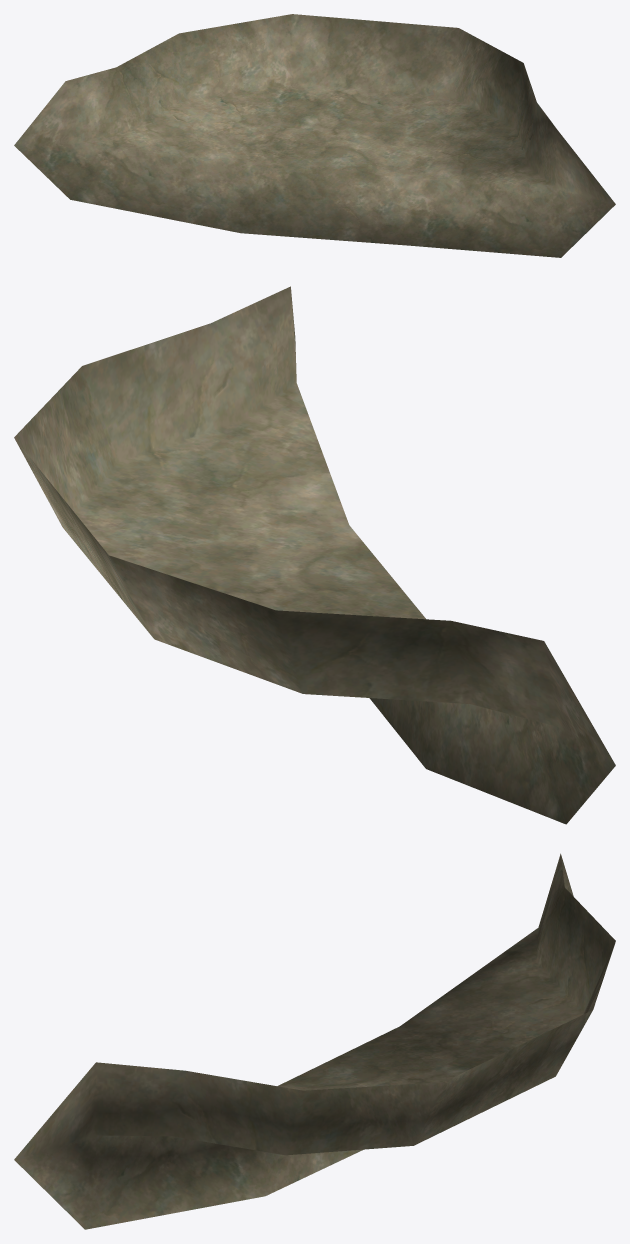
File: EKH_GROTTO_PS_GR_LINE38.fbx
The picture shows the model from 3 angles, top to bottom: view 1: azimuth 30°, elevation 25°; view 2: azimuth 150°, elevation 25°; view 3: azimuth 270°, elevation 25°; orthographic projection. The views are drawn at different scales.
Visible parts, largest first — view 1: EKH_GROTTO_PS_GR_LINE38; view 2: EKH_GROTTO_PS_GR_LINE38; view 3: EKH_GROTTO_PS_GR_LINE38.
Part boxes in pixels (x1,y1,x2,y2): EKH_GROTTO_PS_GR_LINE38: [14, 14, 615, 257]; EKH_GROTTO_PS_GR_LINE38: [14, 286, 615, 824]; EKH_GROTTO_PS_GR_LINE38: [14, 853, 615, 1229].
Size of the model in its own units: 35108 by 11705 by 33335.
Materials: 1 (1 with a texture image).
